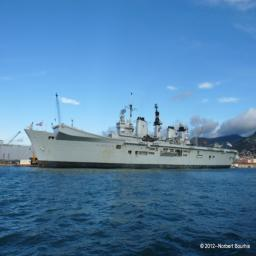Portanaves: (23, 100, 241, 170)
